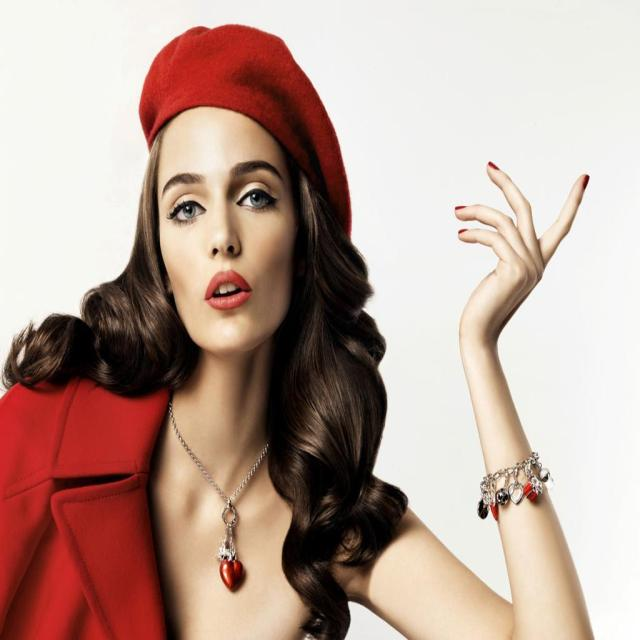Face: (146, 106, 300, 366)
